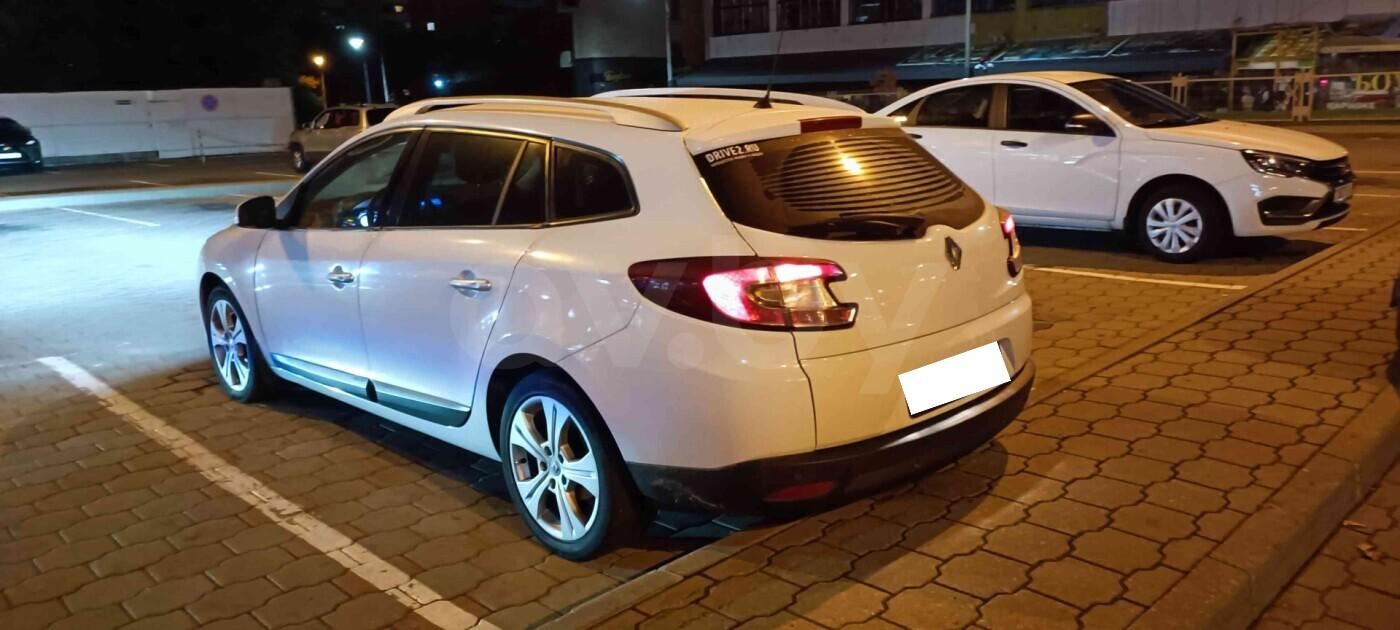Megane_2008-2014: (189, 89, 1040, 560)
